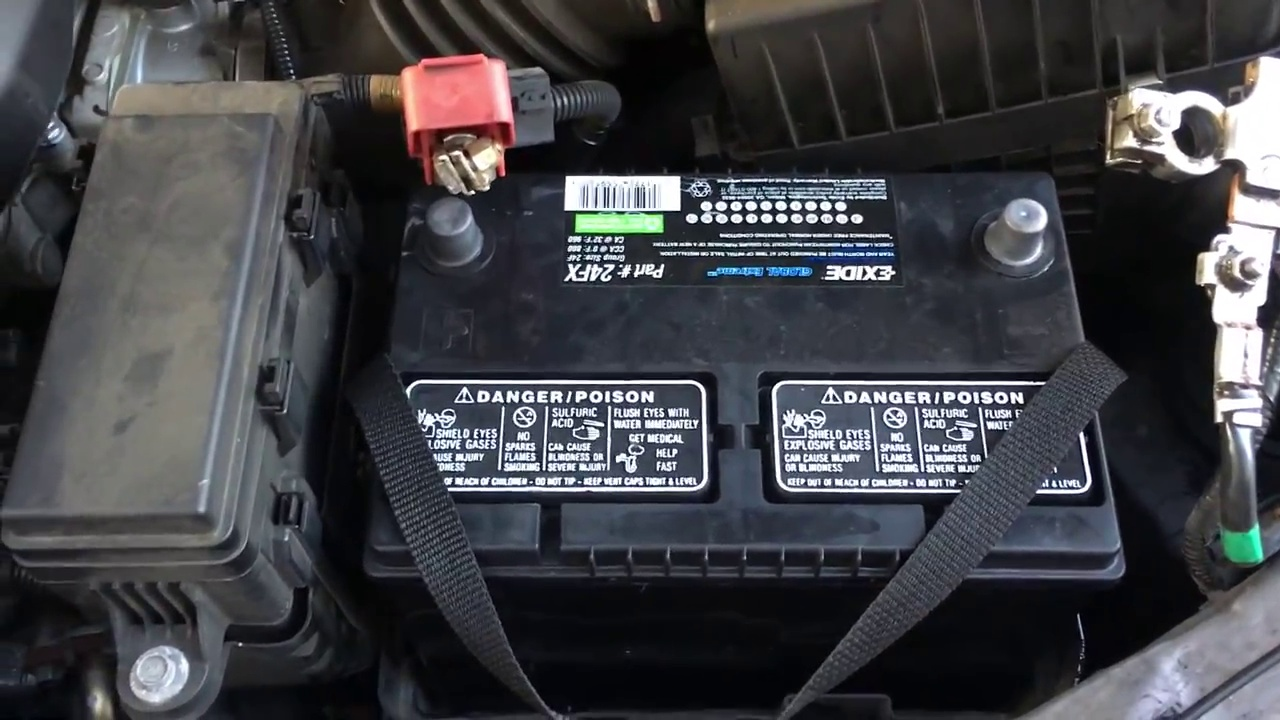battery: (387, 154, 1115, 564)
neg_disconnected: (951, 180, 1087, 309)
pos_disconnected: (357, 67, 548, 299)
